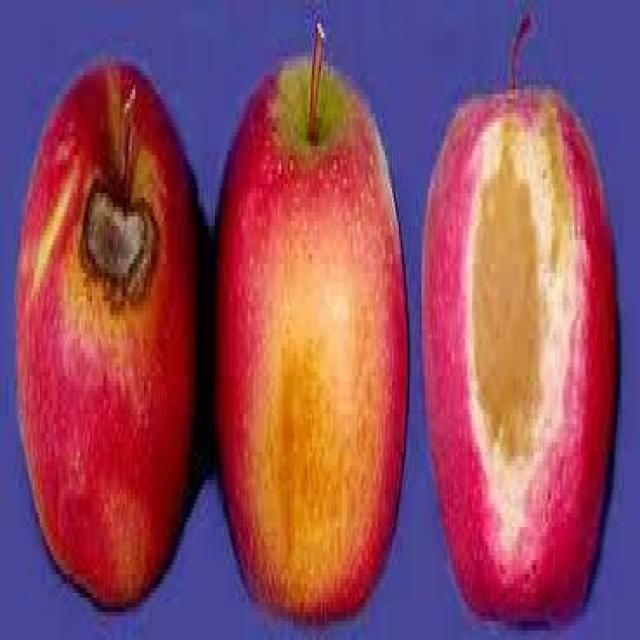maca: (420, 9, 619, 622), (213, 19, 410, 621), (14, 52, 201, 607)
